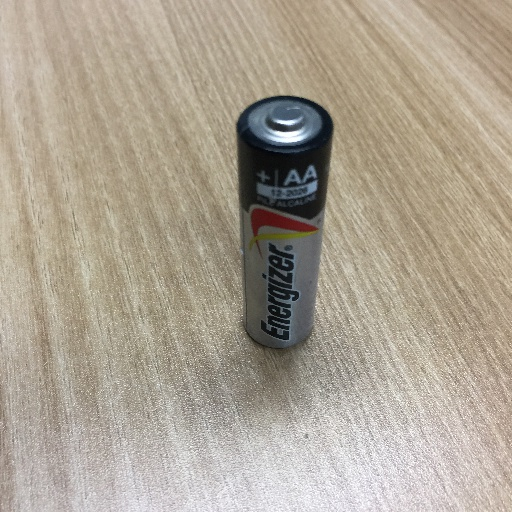Battery_0: (228, 83, 340, 367)
